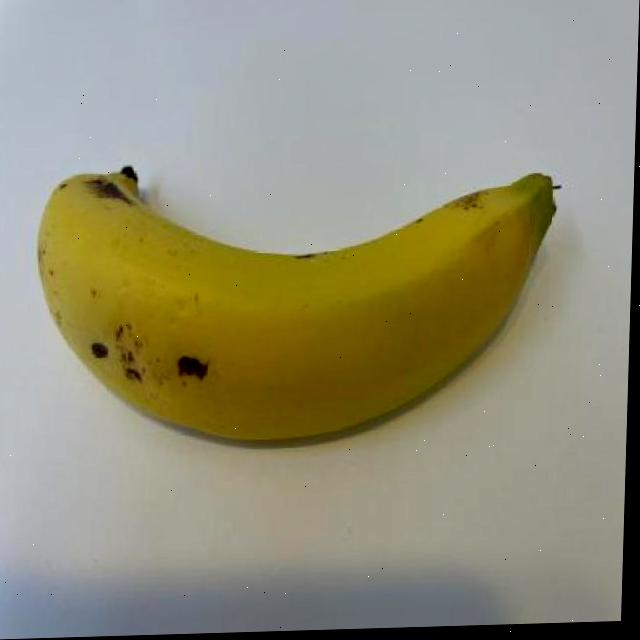banana: (30, 146, 558, 451)
